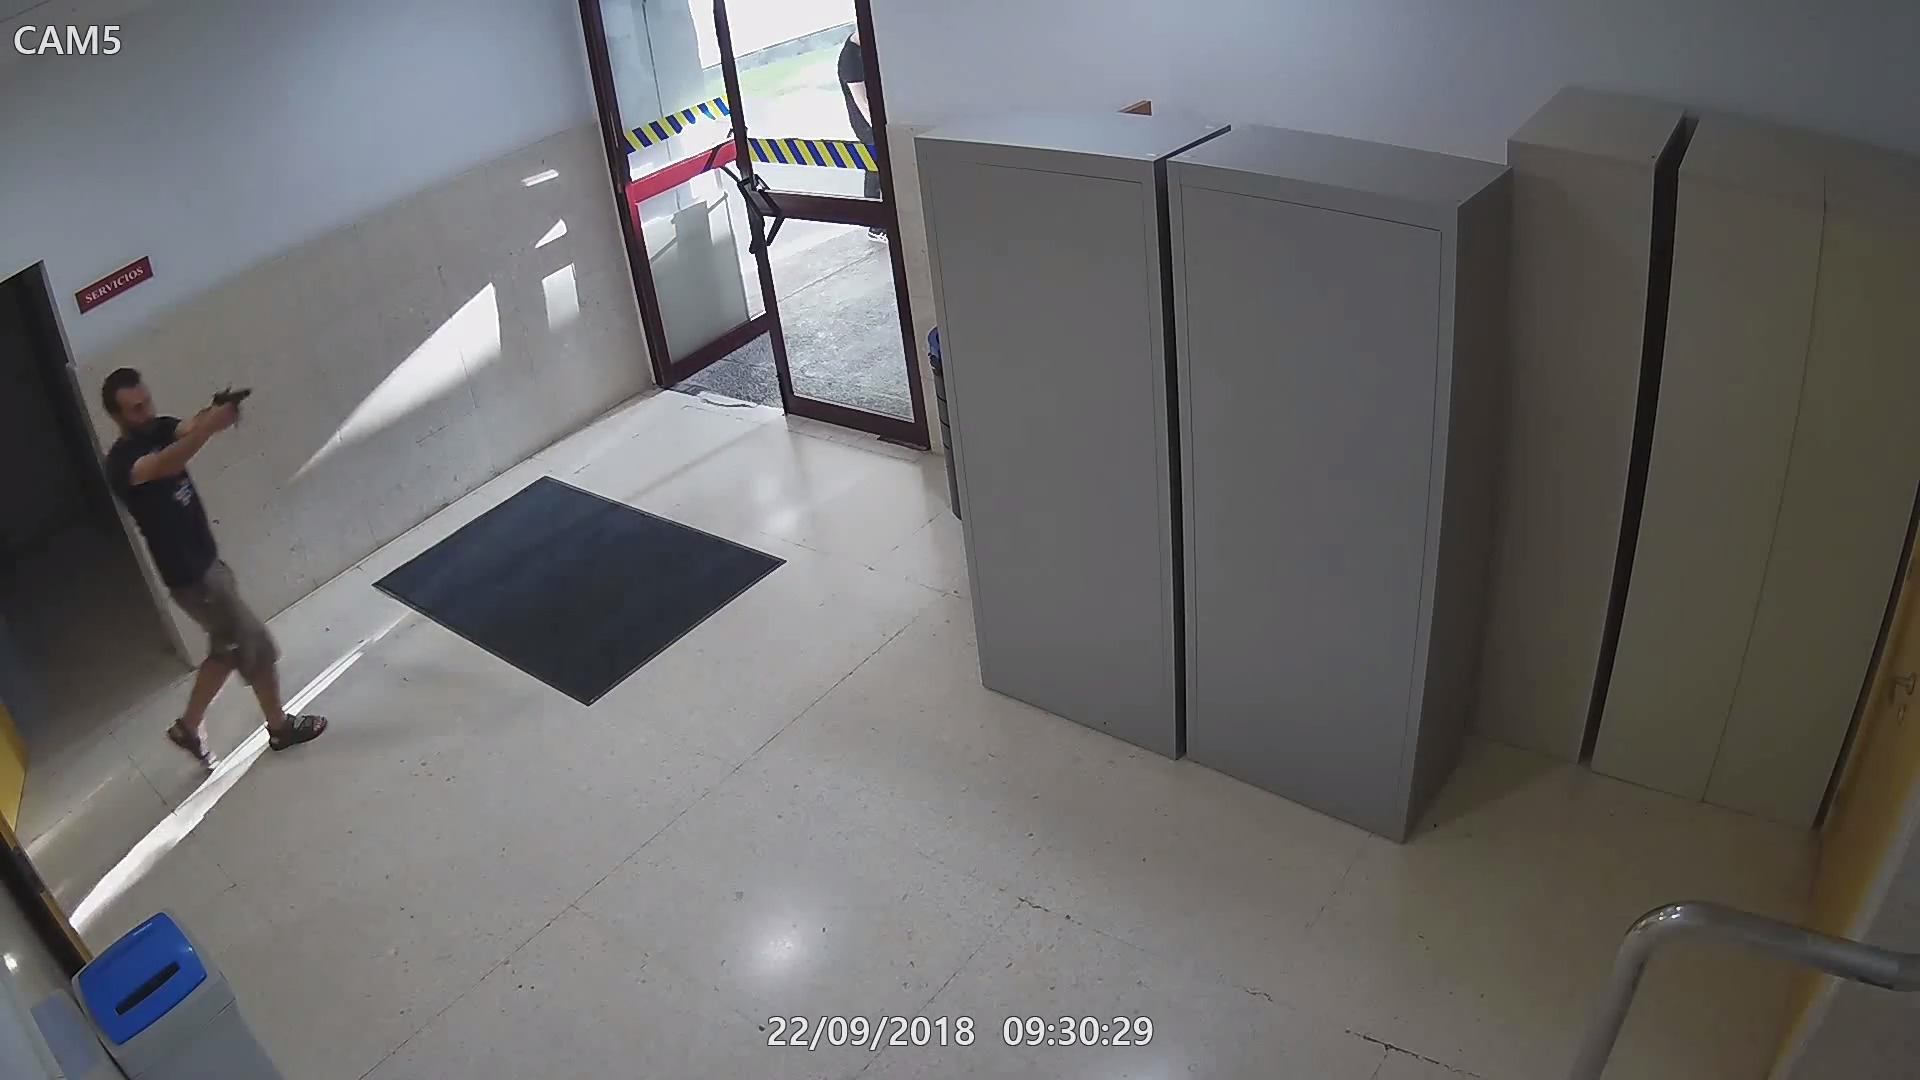Handgun: (196, 382, 253, 436)
